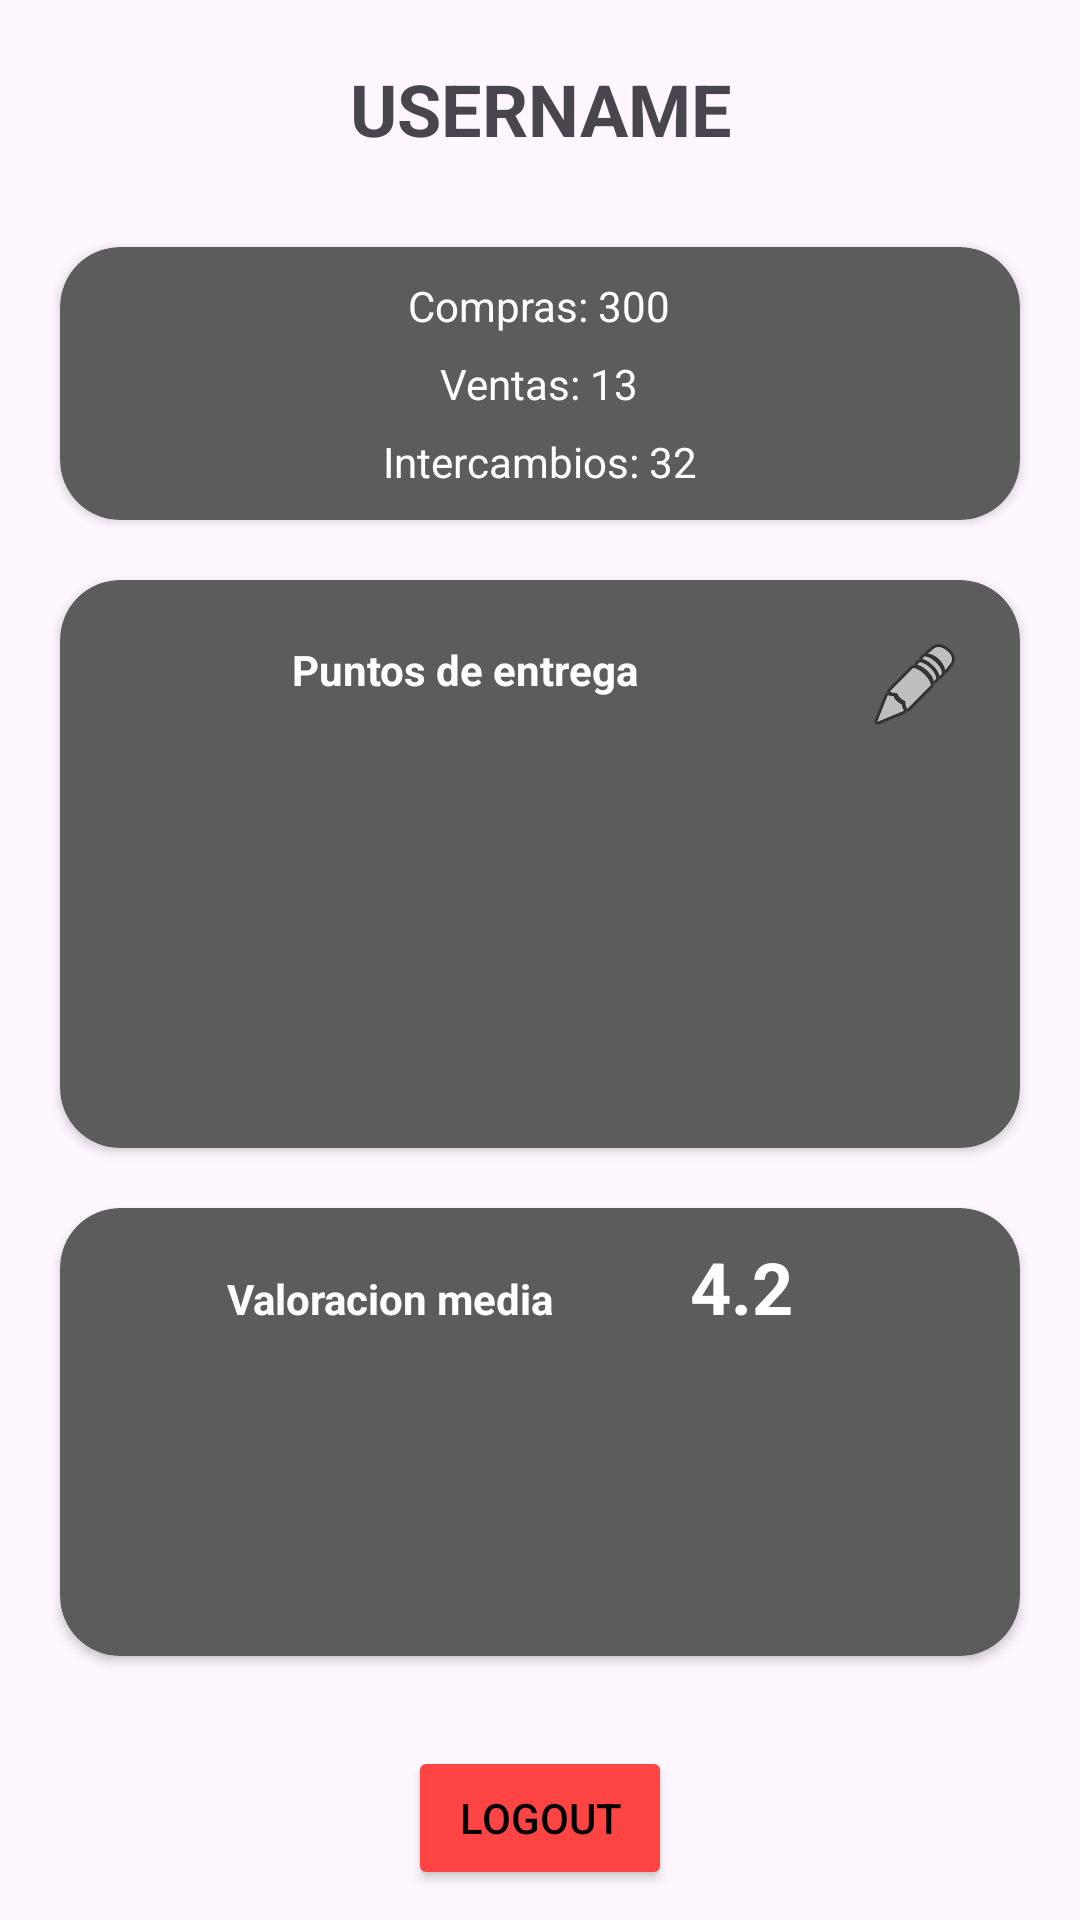

Locate icon controls on the screen. Image size 1080×1920, boxes as [x1,y1,x2,y2].
edit: [875,644,955,724]
